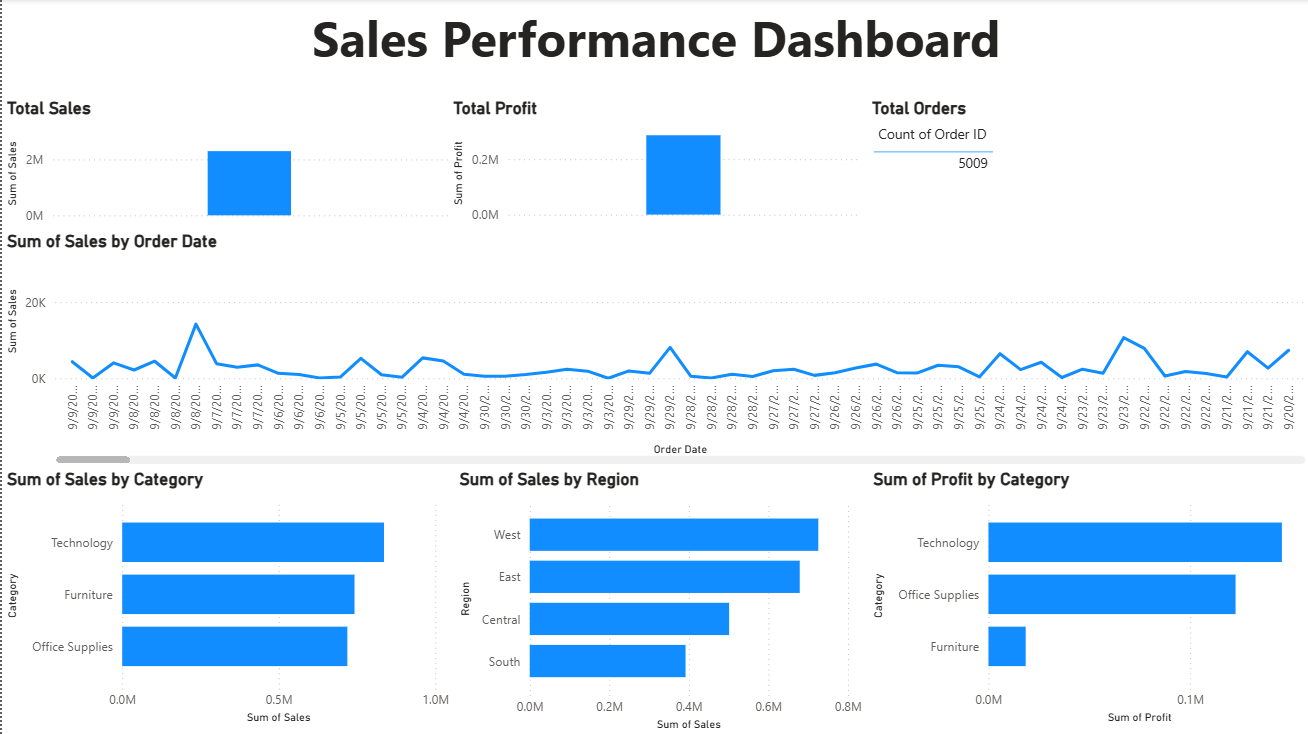

The page's visual inventory and layout, read from the dashboard file:
{"tool":"powerbi","page":{"name":"Page 1","canvas":[1280,720],"ordinal":0},"visuals":[{"type":"columnChart","title":"Total Sales","fields":{"Y":["Sum(Sample - Superstore.Sales)"]},"box":[0,96.4,443.1,129.2],"z":0},{"type":"clusteredColumnChart","title":"Total Profit","fields":{"Y":["Sum(Sample - Superstore.Profit)"]},"box":[436.5,96.4,409.7,128.5],"z":1000},{"type":"lineChart","fields":{"Category":["Sample - Superstore.Order Date"],"Y":["Sum(Sample - Superstore.Sales)"]},"box":[0,225.6,1280,233.8],"z":3000},{"type":"barChart","fields":{"Y":["Sum(Sample - Superstore.Sales)"],"Category":["Sample - Superstore.Category"]},"box":[0,459.5,443.1,254.4],"z":4000},{"type":"barChart","fields":{"Category":["Sample - Superstore.Region"],"Y":["Sum(Sample - Superstore.Sales)"]},"box":[443.1,459.5,404.1,260.5],"z":5000},{"type":"barChart","fields":{"Category":["Sample - Superstore.Category"],"Y":["Sum(Sample - Superstore.Profit)"]},"box":[847.2,459.5,432.8,254.4],"z":6000},{"type":"textbox","box":[0,0,1280,96.4],"z":7000},{"type":"tableEx","title":"Total Orders","fields":{"Values":["Sample - Superstore.Order ID"]},"box":[846.2,96.4,433.8,128.5],"z":7001}]}

Visuals, with their boxes in screenshot pixels (x1, y1, x2, y2), scaled from the page's 1280x720 canvas onto the 1308x734 screenshot:
"Total Sales" columnChart: (0, 98, 453, 230)
"Total Profit" clusteredColumnChart: (446, 98, 865, 229)
lineChart - Sample - Superstore.Order Date x Sum(Sample - Superstore.Sales): (0, 230, 1307, 468)
barChart - Sum(Sample - Superstore.Sales) x Sample - Superstore.Category: (0, 468, 453, 728)
barChart - Sample - Superstore.Region x Sum(Sample - Superstore.Sales): (453, 468, 866, 733)
barChart - Sample - Superstore.Category x Sum(Sample - Superstore.Profit): (866, 468, 1307, 728)
textbox: (0, 0, 1307, 98)
"Total Orders" tableEx: (865, 98, 1307, 229)
